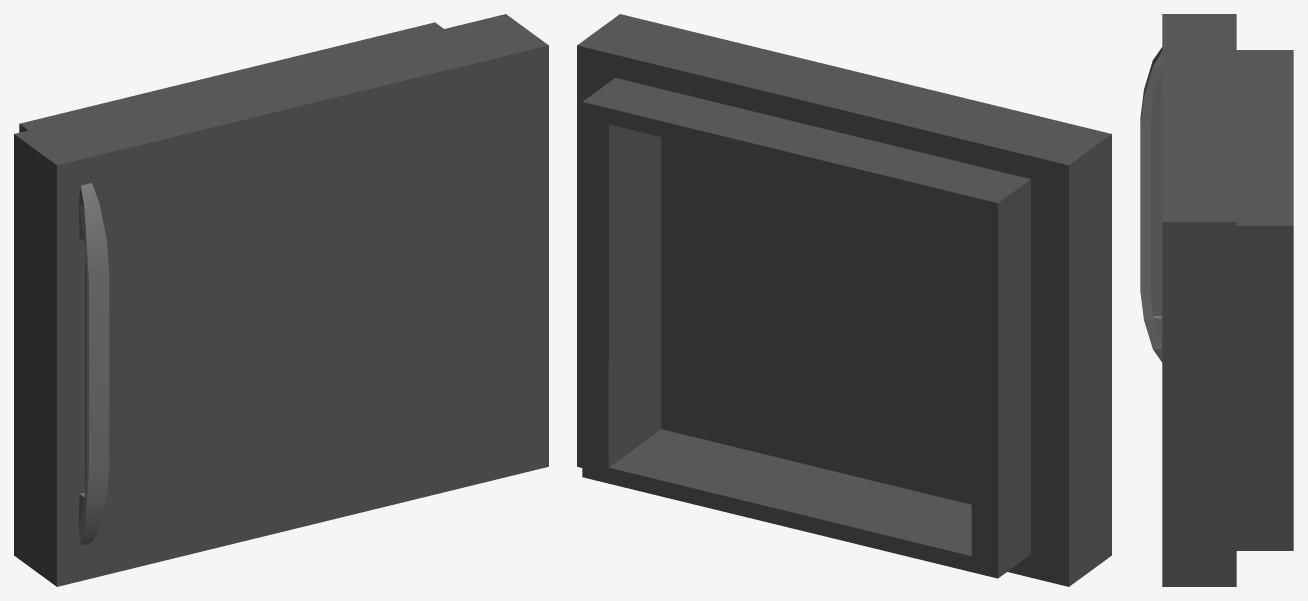
File: Itr_Obj_Fridge2_Bottom_Door_06.FBX
3 views of the same model, side by side, from view 1: azimuth 30°, elevation 25°; view 2: azimuth 150°, elevation 25°; view 3: azimuth 270°, elevation 25° (orthographic). The views are drawn at different scales.
Parts seen in each view (by area): view 1: Itr_Obj_Fridge2_Bottom_Door_06; view 2: Itr_Obj_Fridge2_Bottom_Door_06; view 3: Itr_Obj_Fridge2_Bottom_Door_06.
Part boxes in pixels (x1,y1,x2,y2): Itr_Obj_Fridge2_Bottom_Door_06: (14,14,548,586); Itr_Obj_Fridge2_Bottom_Door_06: (577,14,1111,586); Itr_Obj_Fridge2_Bottom_Door_06: (1140,14,1293,586).
Bounding box in the file's own units: 34.44 × 28.21 × 10.74.
